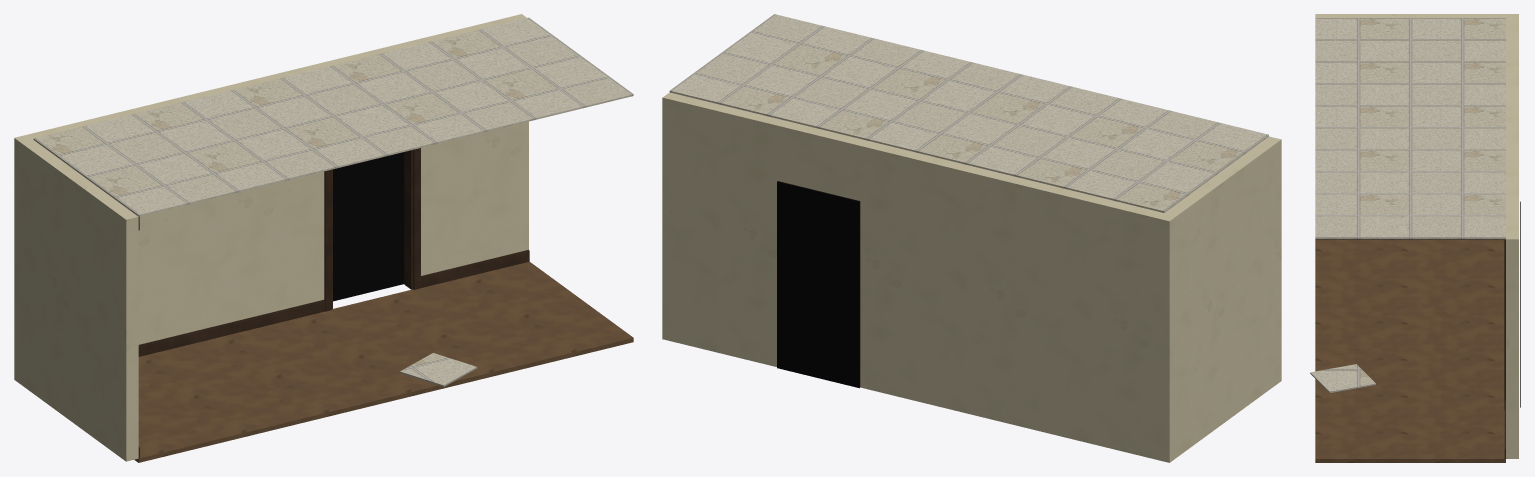
The model's file is mansion_corridor_demo.glb.
3 views of the same model, side by side, from view 1: azimuth 30°, elevation 25°; view 2: azimuth 150°, elevation 25°; view 3: azimuth 270°, elevation 25° (orthographic). The views are drawn at different scales.
Parts seen in each view (by area): view 1: Walls, Ceiling, Floor, Doorways, Trim; view 2: Walls, Ceiling, Doorways; view 3: Ceiling, Floor, Walls, Doorways, Trim.
Boxes of the visible parts, left/top/right/bottom form: Walls: left=14, top=14, right=528, bottom=461; Ceiling: left=33, top=17, right=633, bottom=216; Floor: left=134, top=261, right=633, bottom=462; Doorways: left=324, top=148, right=420, bottom=311; Trim: left=138, top=216, right=529, bottom=458; Walls: left=662, top=92, right=1281, bottom=462; Ceiling: left=669, top=14, right=1268, bottom=212; Doorways: left=777, top=181, right=860, bottom=388; Ceiling: left=1315, top=18, right=1505, bottom=239; Floor: left=1310, top=240, right=1505, bottom=462; Walls: left=1315, top=14, right=1518, bottom=458; Doorways: left=1504, top=201, right=1520, bottom=410; Trim: left=1315, top=239, right=1505, bottom=458.
Bounding box in the file's own units: 6.15 × 2.87 × 2.43.
10 materials, 4 textured.
